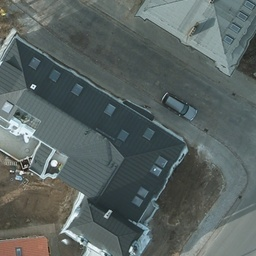car: (161, 92, 197, 120)
